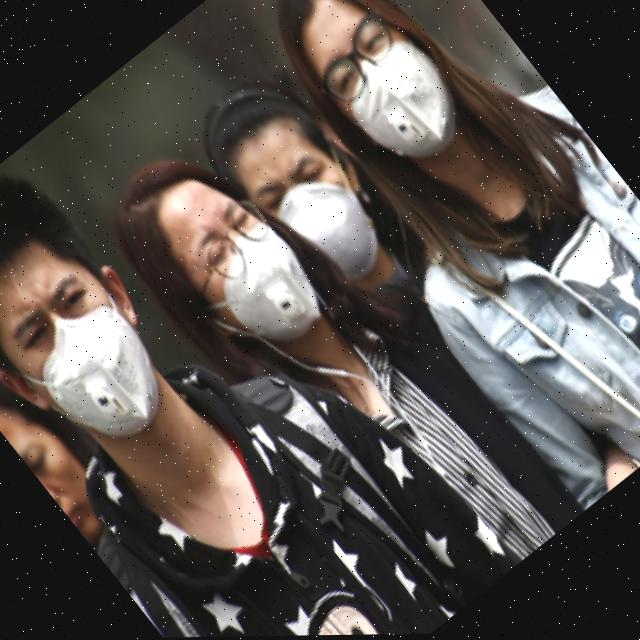Mask: (0, 258, 204, 480), (299, 0, 480, 186), (178, 212, 336, 375), (252, 132, 408, 296)
